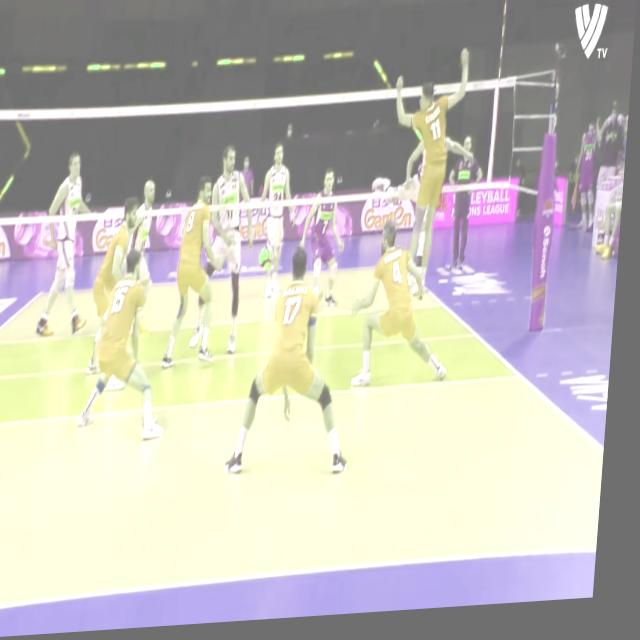player: (236, 247, 367, 486), (383, 54, 470, 307), (354, 221, 464, 396), (86, 249, 180, 448), (42, 150, 103, 342), (94, 200, 147, 395), (173, 179, 228, 363), (204, 150, 252, 360), (253, 151, 301, 307), (302, 174, 352, 316), (131, 178, 163, 342)
